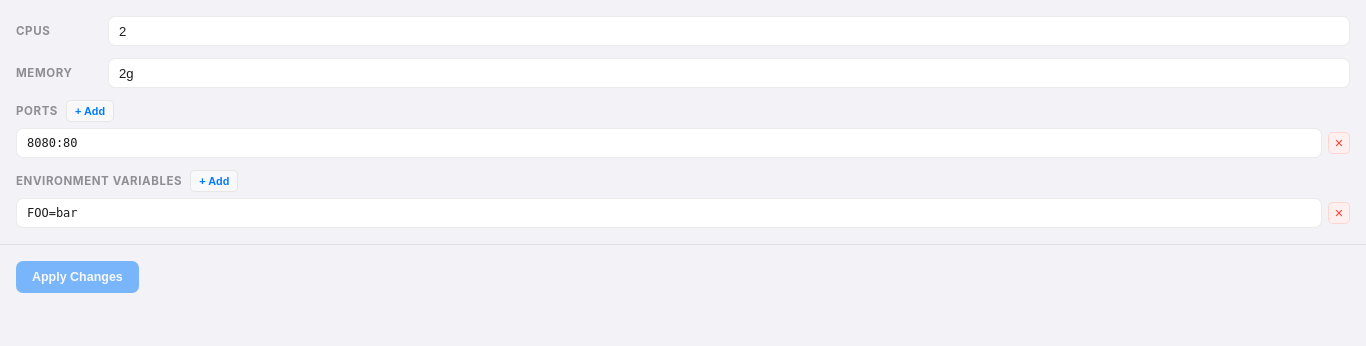
Scenario: ContainerSettings › can add a new port mapping
The width and height of the screenshot is (1366, 346).
Click the button "+ Add" next to "Ports" at (90, 111), box [66,100,114,122]
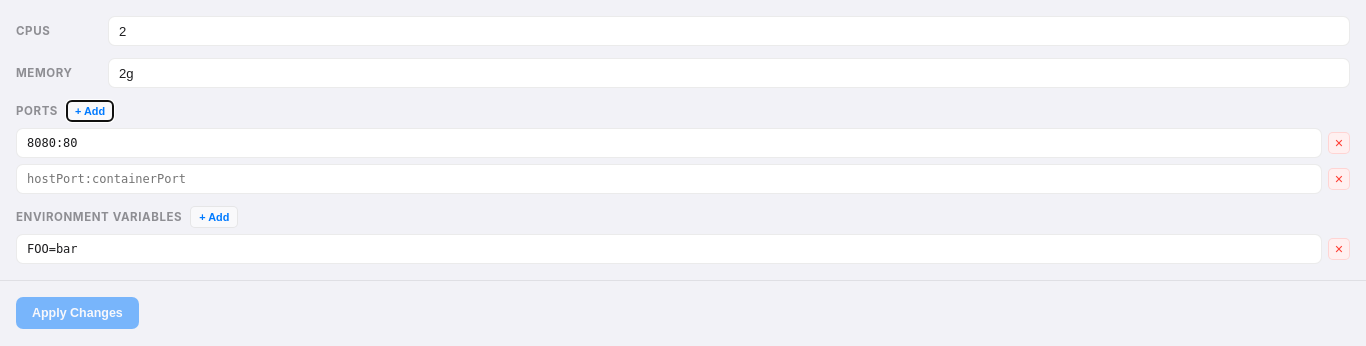
Expected: the number of fields with placeholder "hostPort:containerPort" is 2, [16,128,1322,158]; [16,164,1322,194]
